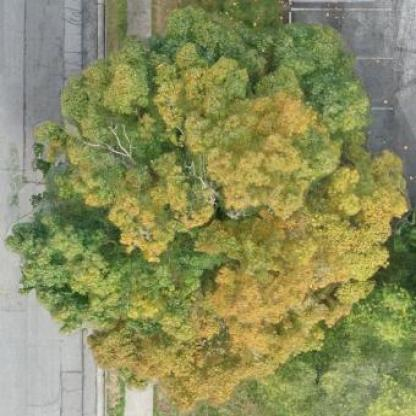Deciduous Tree: (5, 22, 416, 392)
